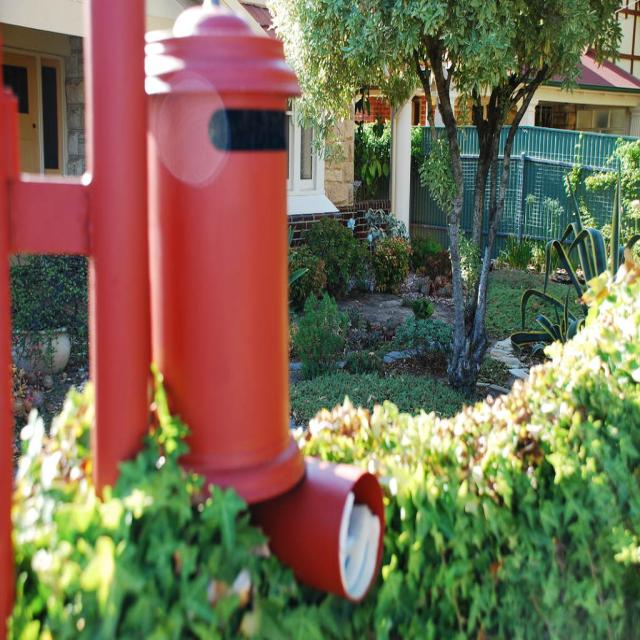fire_hydrant: (141, 2, 303, 510)
